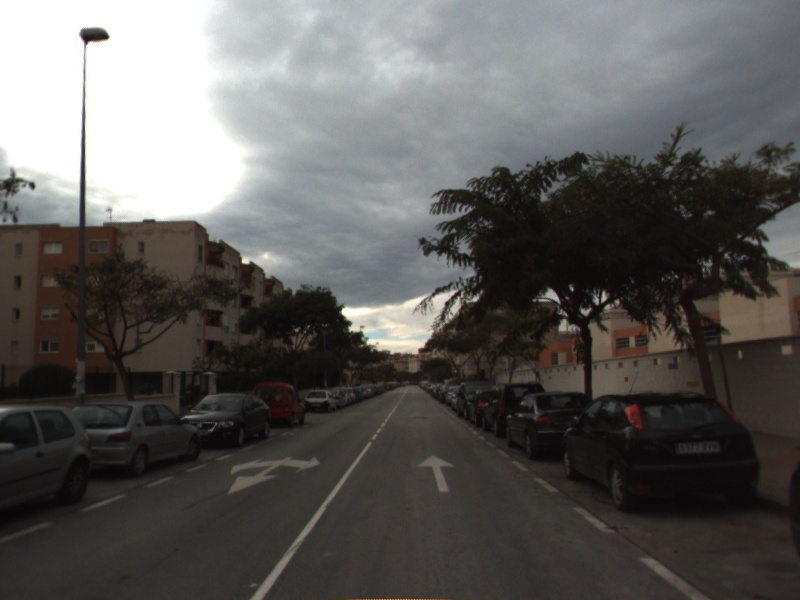STRAIGHT: (415, 453, 457, 494)
